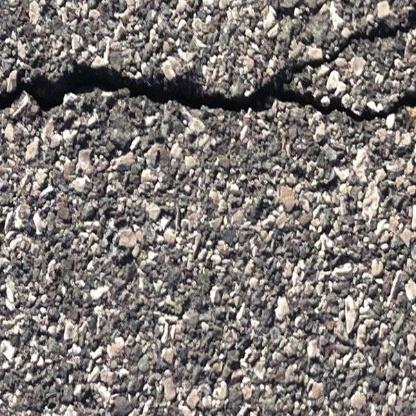Cracks: (0, 0, 416, 126)
